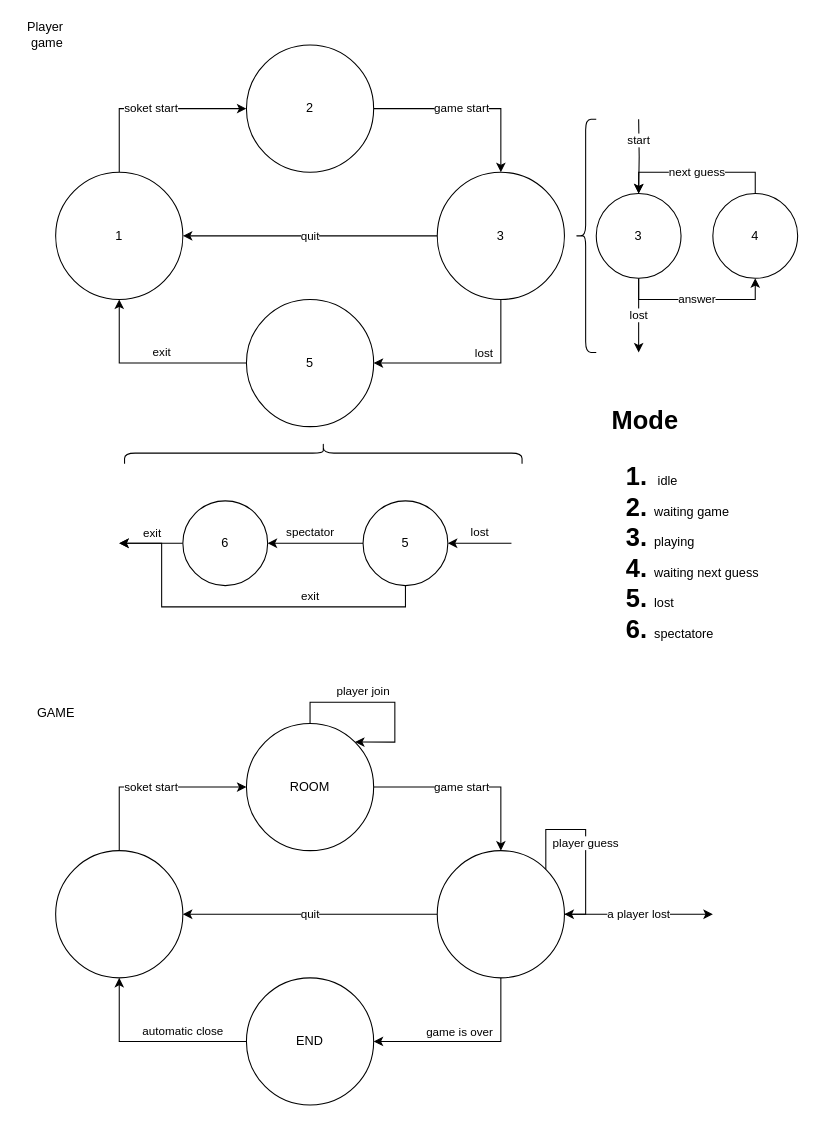
Some shapes in this 826 by 1124 pixel diagram are drawn without their labels. The shapes that lost their labels are listed below. From the top down, each one's centre as x and y in pixels, then its label:
At (119,914): "IDLE".
At (500,914): "IN GAME".
